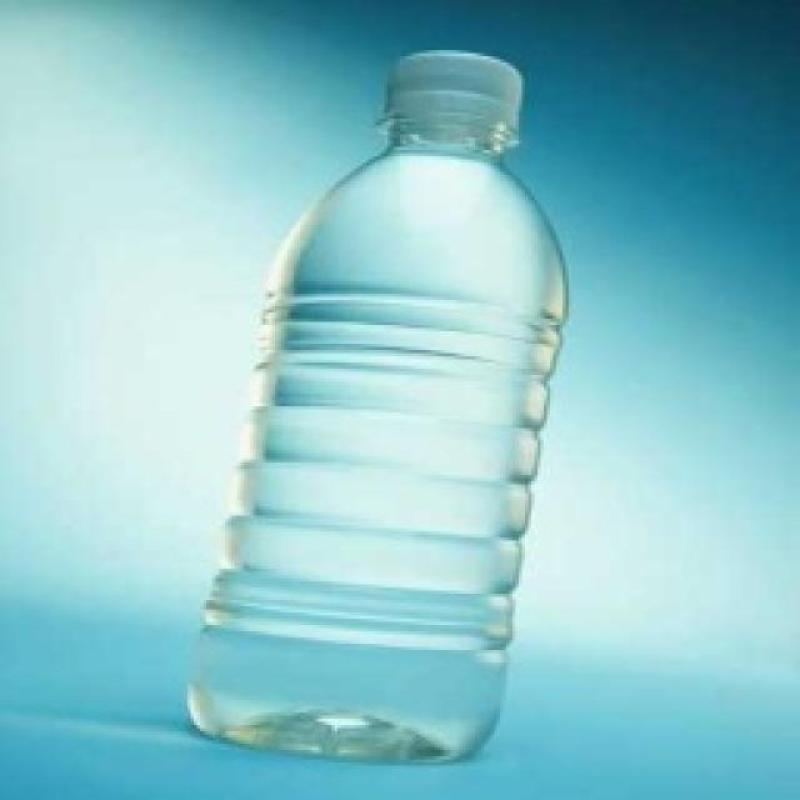botella: (182, 50, 568, 766)
